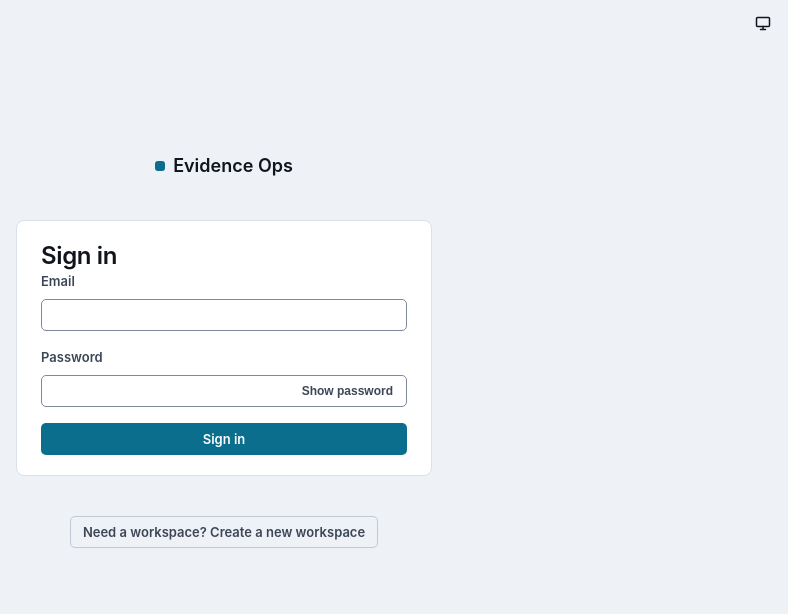
Test: LoginPage › falls back to a connection message instead of a raw browser exception
Type "user@example.com" into the field labelled "Email".
click(224, 315); type("user@example.com")  # box [41,299,407,331]
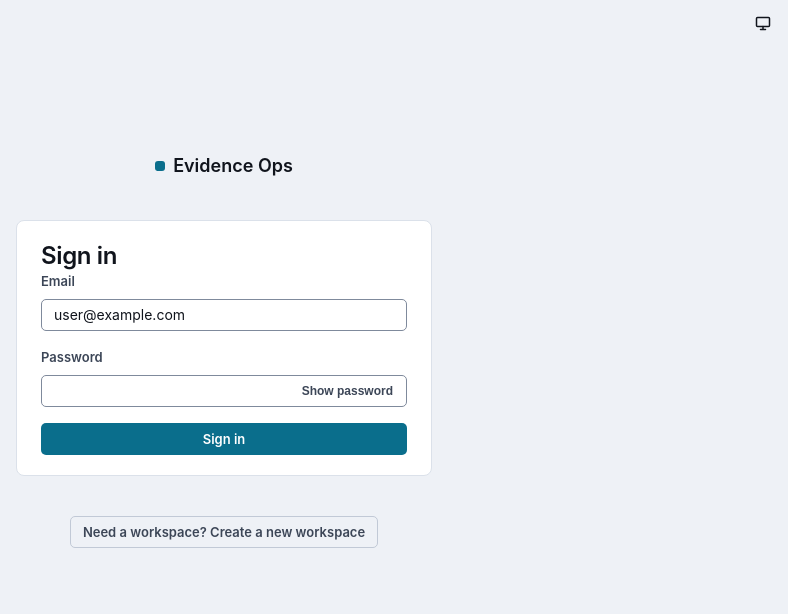
Type "correct-password" into the password field labelled "Password".
click(224, 391); type("correct-password")  # box [41,375,407,407]
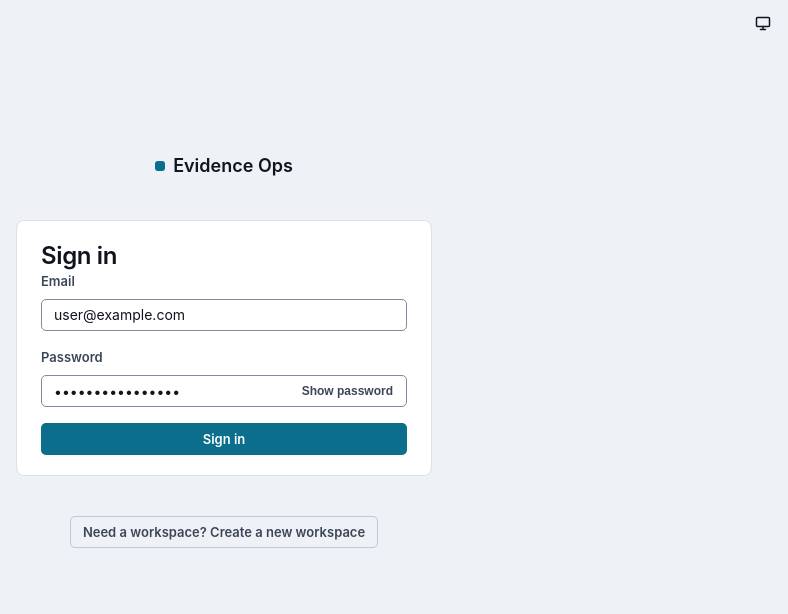
Click the button "Sign in".
click(224, 439)  # box [41,423,407,455]
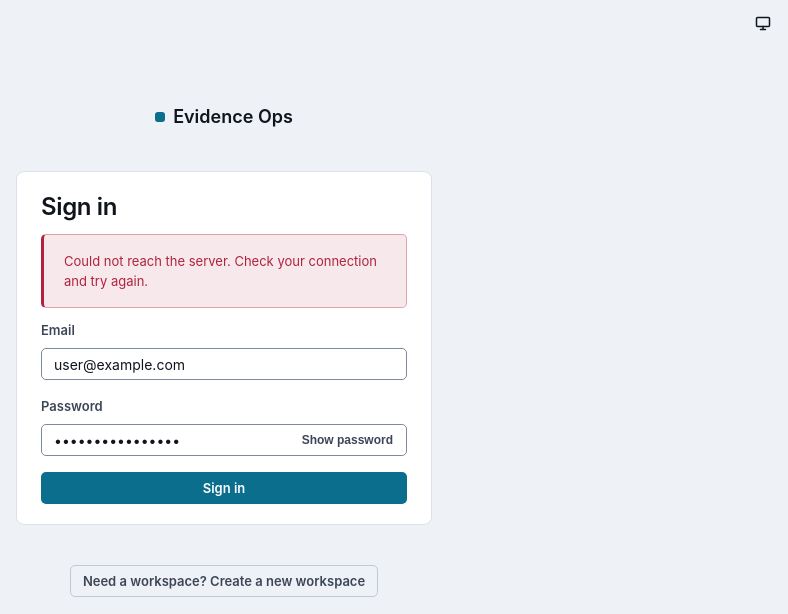
Expected: the message reads "Could not reach the server. Check your connection and try again.", [64,253,377,289]
